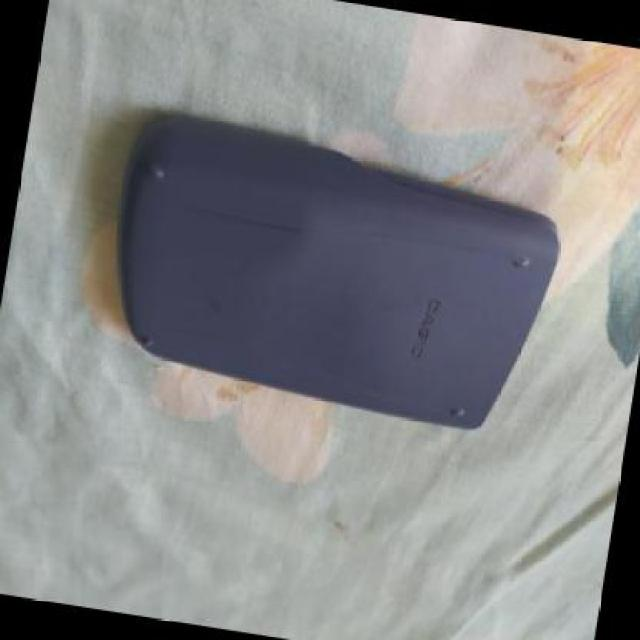Calculator: (85, 87, 581, 448)
